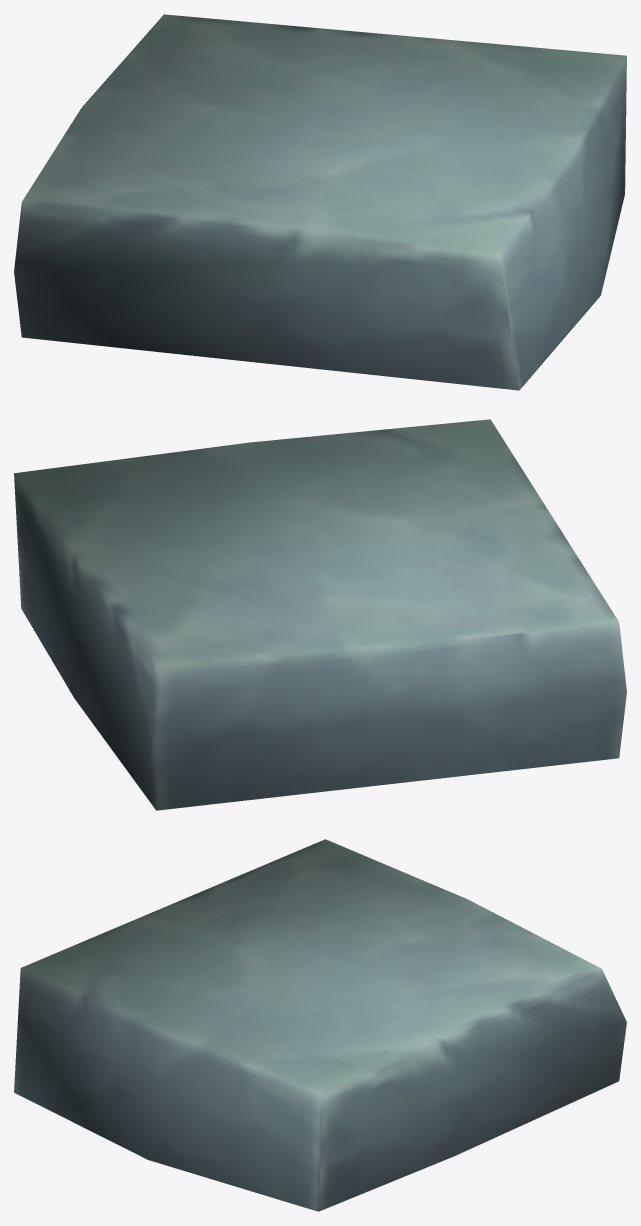
File: fangkuaishi_04.FBX
3 renders of one model, top to bottom at view 1: azimuth 30°, elevation 25°; view 2: azimuth 150°, elevation 25°; view 3: azimuth 270°, elevation 25°, orthographic. The views are drawn at different scales.
Visible parts, largest first — view 1: Object005; view 2: Object005; view 3: Object005.
Boxes of the visible parts, <box> form: Object005: <box>14,14,626,390</box>; Object005: <box>14,419,626,810</box>; Object005: <box>14,839,626,1211</box>.
Size of the model in its own units: 247 by 52.2 by 246.
